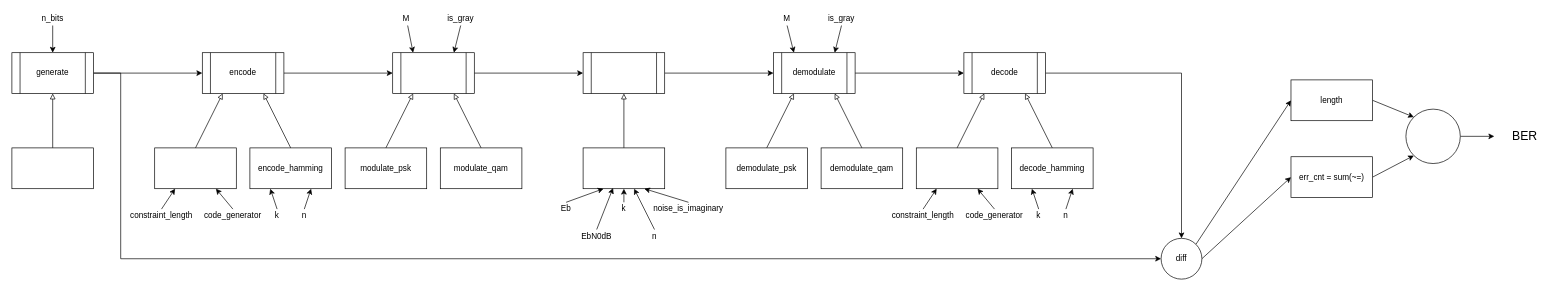
This 1561x291 diagram has some shape labels left out. The shapes that lost their labels are listed below. From the top down, each one's centre as x and y in pixels, then its label:
At [433,73]: "modulate".
At [623,73]: "transmit".
At [1432,136]: "err_cnt/length".
At [52,168]: "generate_bit_stream".
At [195,168]: "encode_convolutional".
At [623,168]: "transmit_awgn".
At [957,168]: "decode_convolutional".
